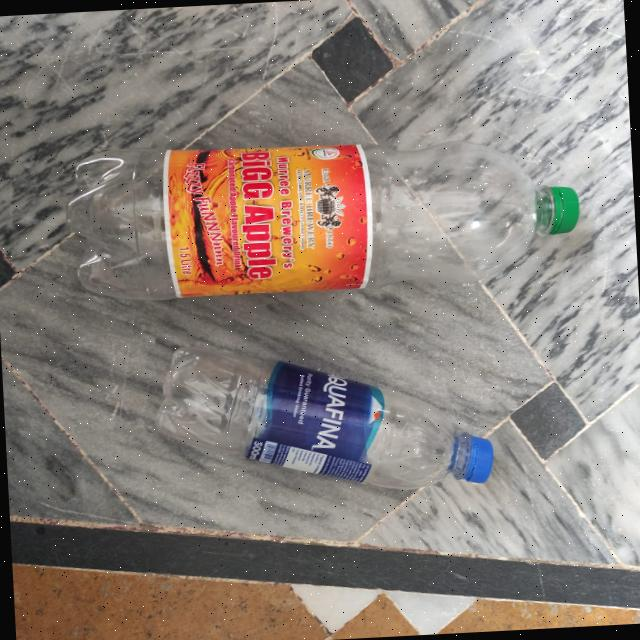bottle: (39, 116, 582, 316), (129, 359, 499, 510)
cap: (448, 428, 493, 490), (529, 178, 576, 236)
label: (142, 140, 362, 301), (241, 378, 375, 497)
